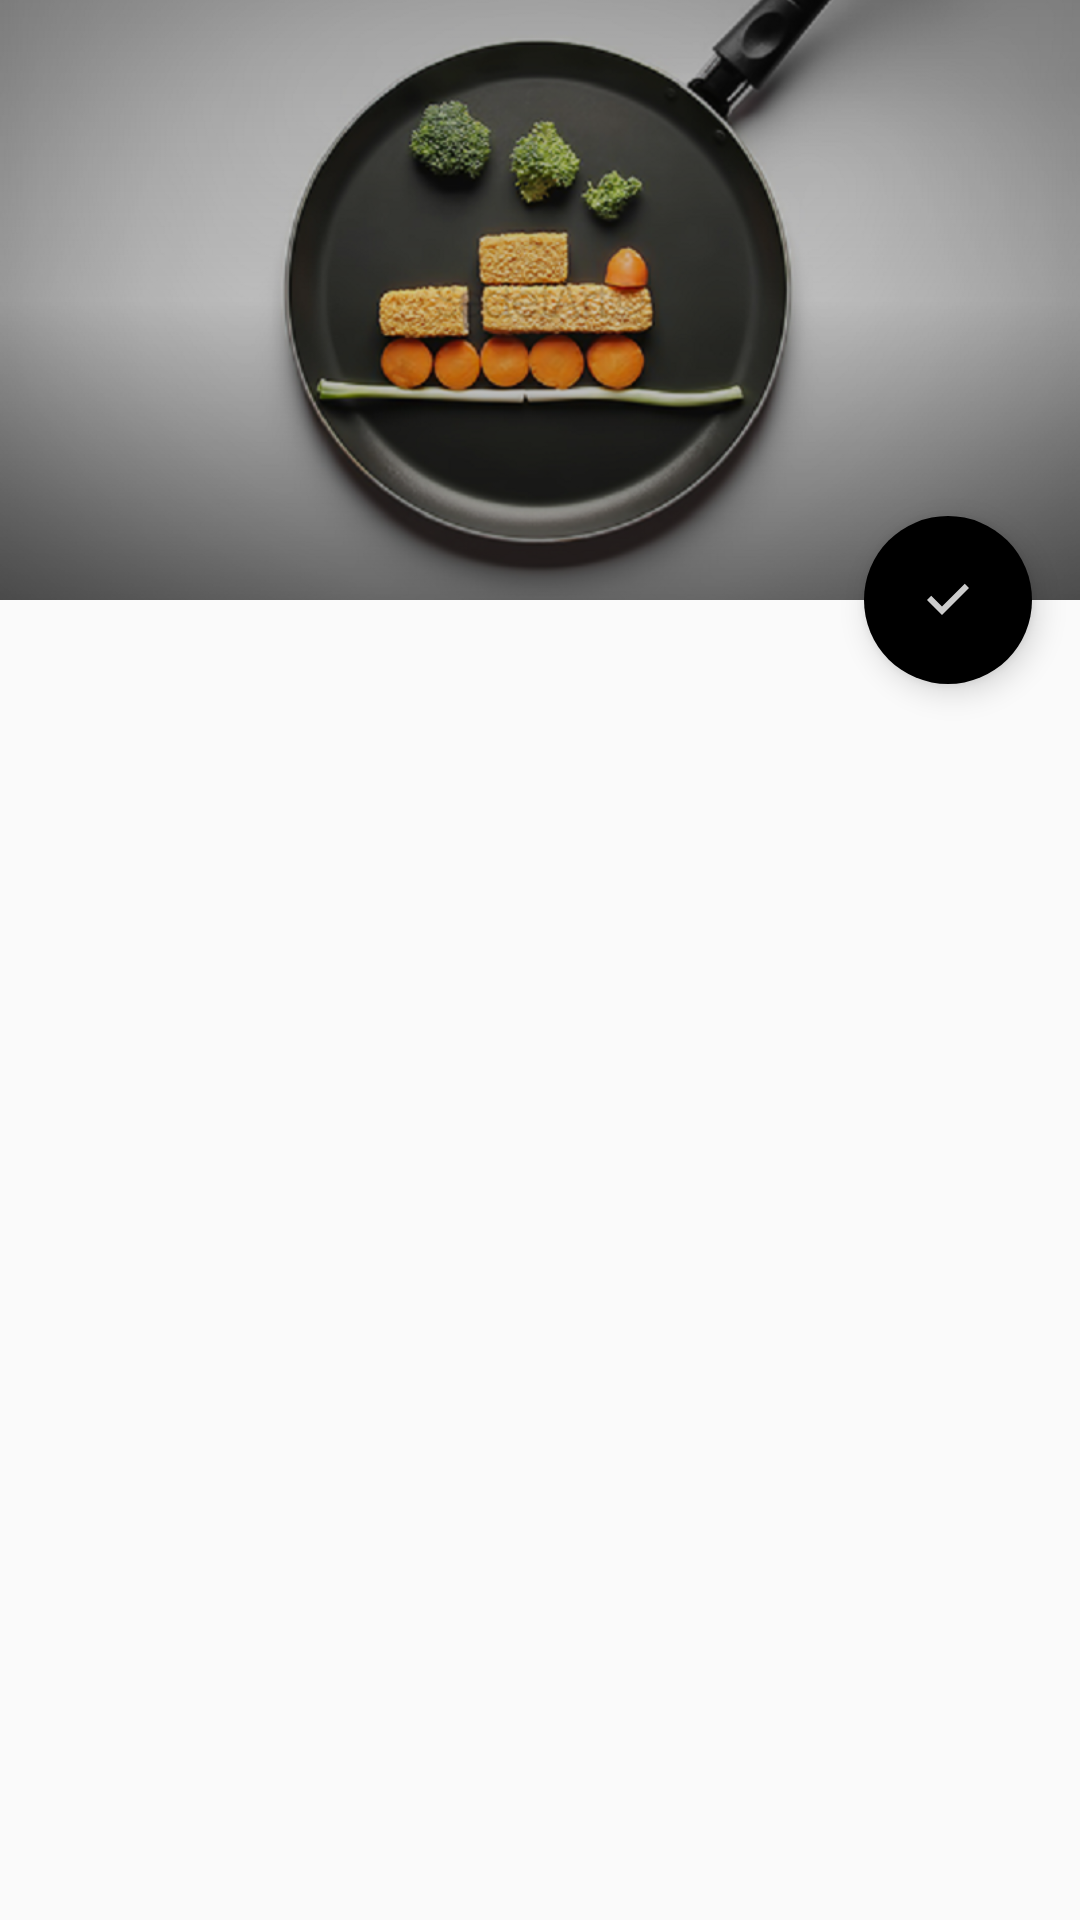

Icon click points for this 1080×1920 phone screenshot, format [x,y]:
check: [948,600]
